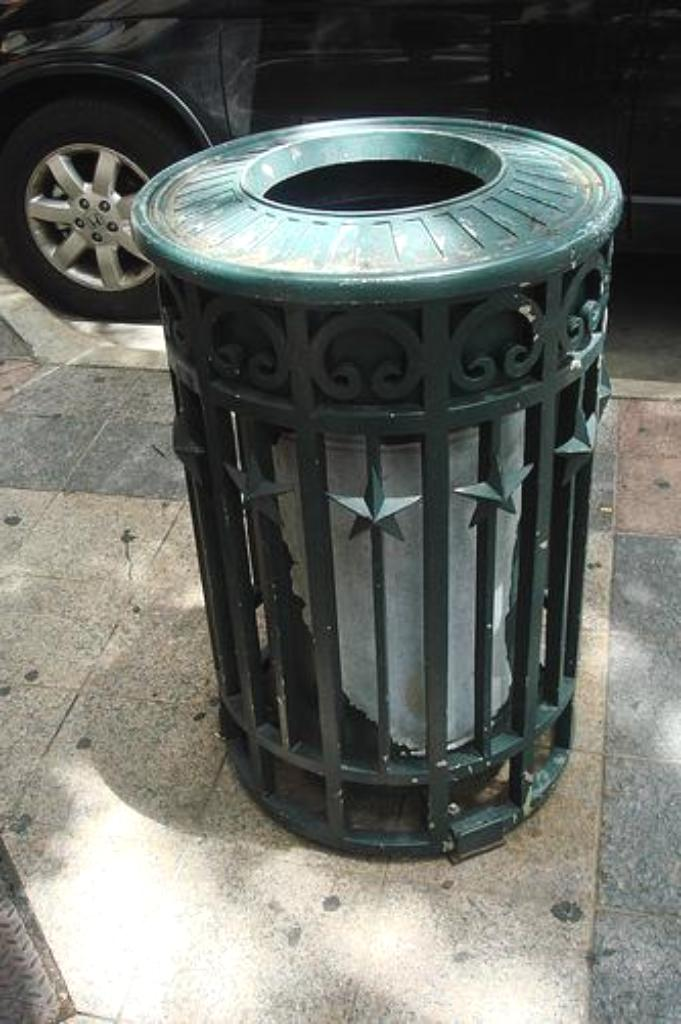dustbin: (149, 116, 632, 875)
